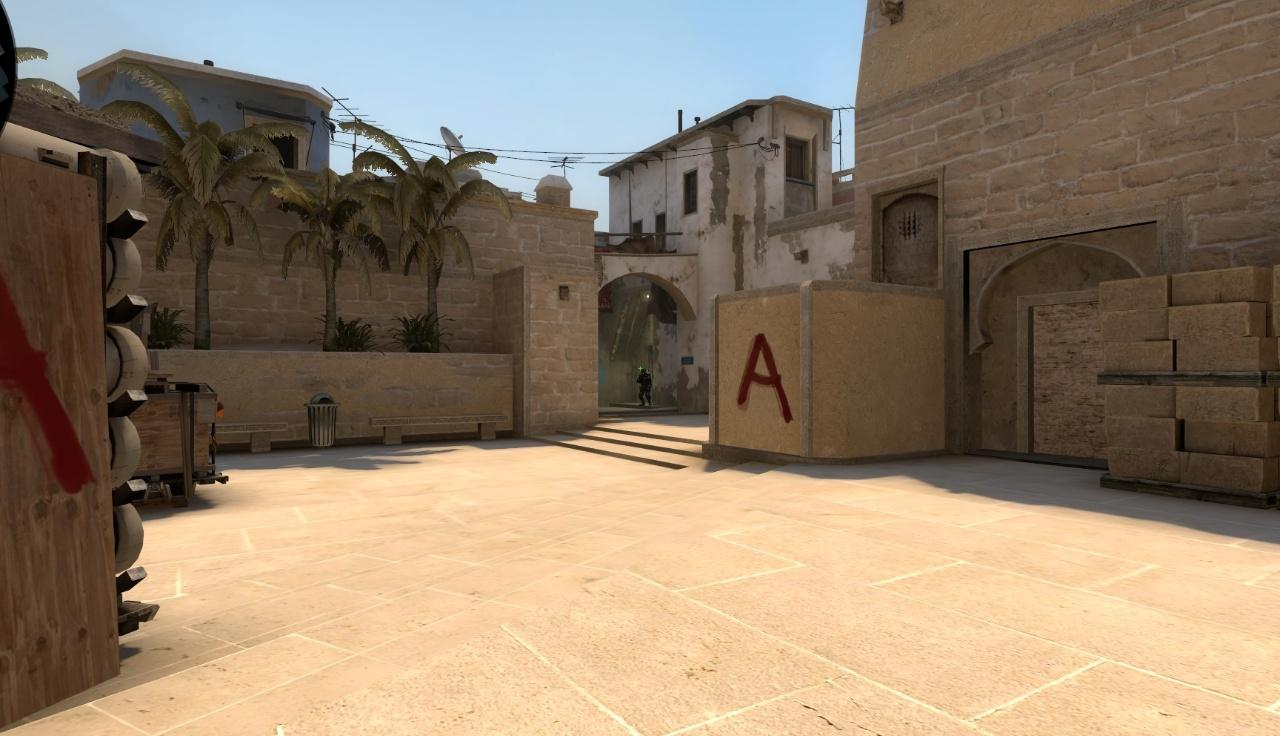ct: (636, 368, 652, 406)
cthead: (641, 369, 647, 374)
